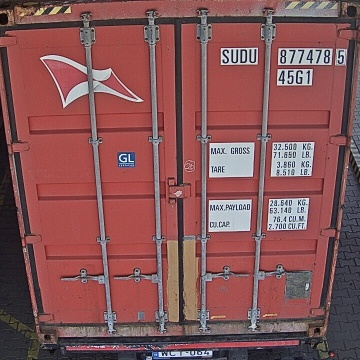serial_id: (221, 48, 346, 64)
